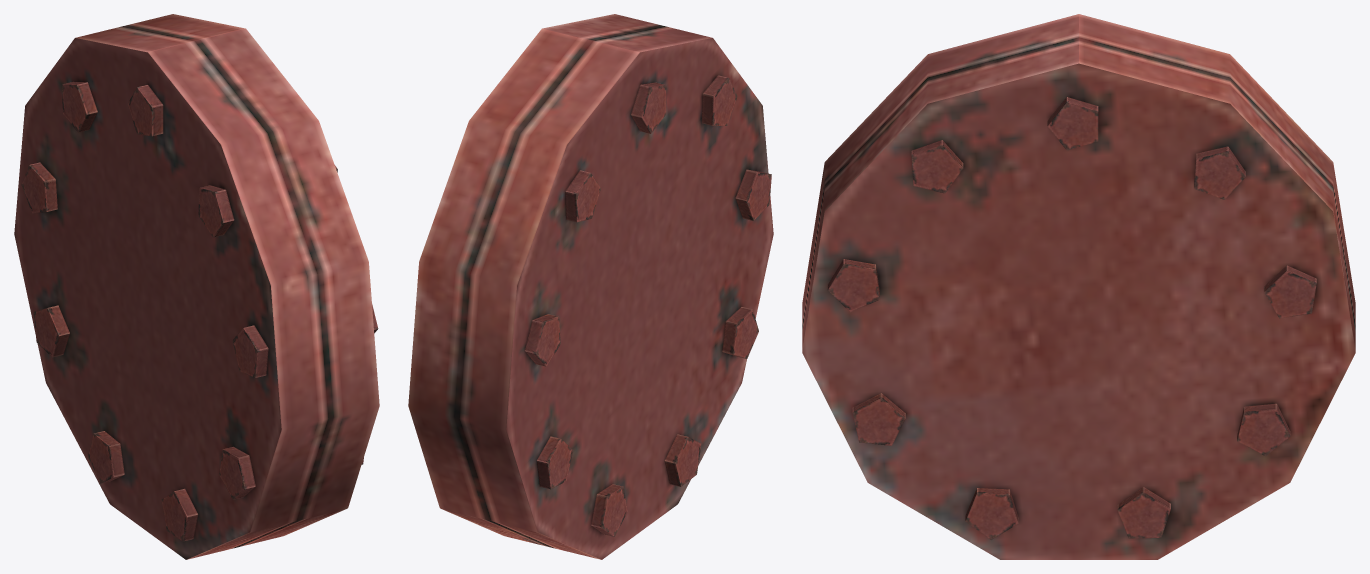
Rendered from Drainage_D.FBX.
The picture shows the model from 3 angles, left to right: view 1: azimuth 30°, elevation 25°; view 2: azimuth 150°, elevation 25°; view 3: azimuth 270°, elevation 25°; orthographic projection. The views are drawn at different scales.
Visible parts, largest first — view 1: Drainage_D; view 2: Drainage_D; view 3: Drainage_D.
Boxes of the visible parts, <box> form: Drainage_D: <box>14,14,379,559</box>; Drainage_D: <box>408,14,773,559</box>; Drainage_D: <box>802,14,1355,559</box>.
Bounding box in the file's own units: 9.82 × 37.85 × 37.46.
1 material, 1 textured.
